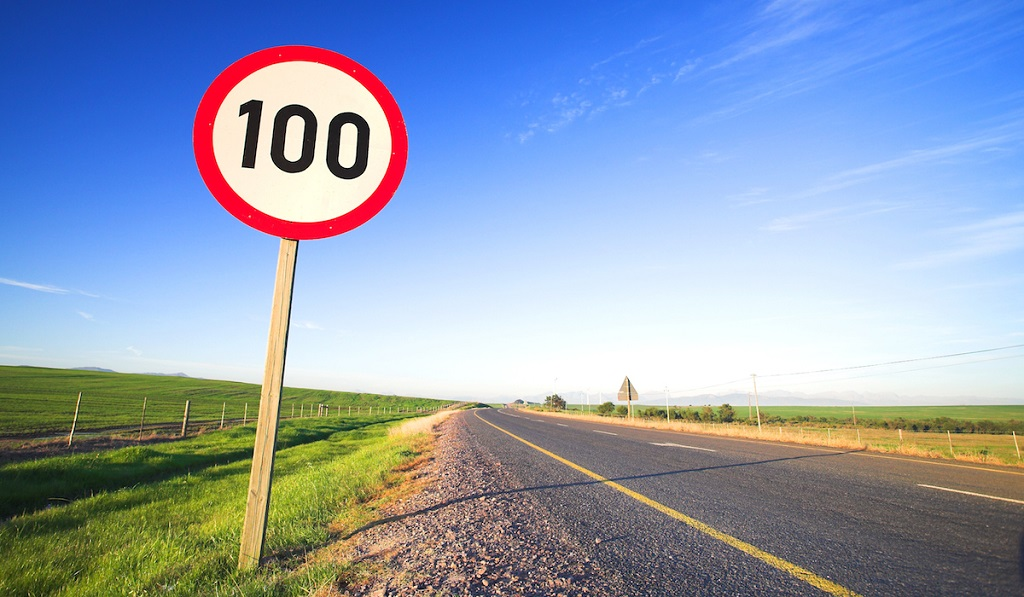Speed_limit_100km: (192, 42, 410, 242)
